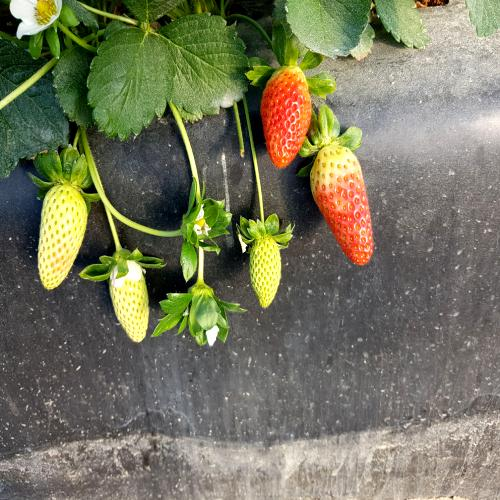partially-ripe: (311, 134, 381, 278)
ripe: (258, 62, 317, 176)
unripe: (30, 183, 92, 292), (104, 257, 154, 353), (245, 225, 288, 314)
